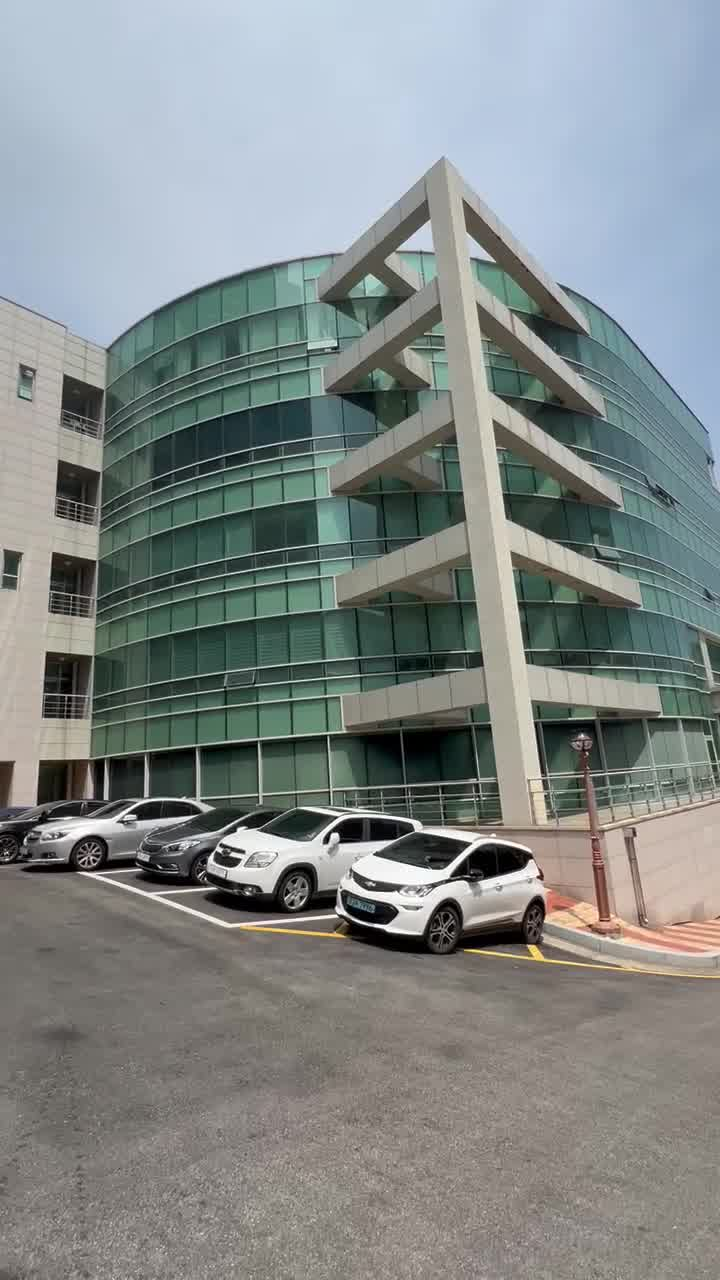medium: (2, 176, 720, 800)
